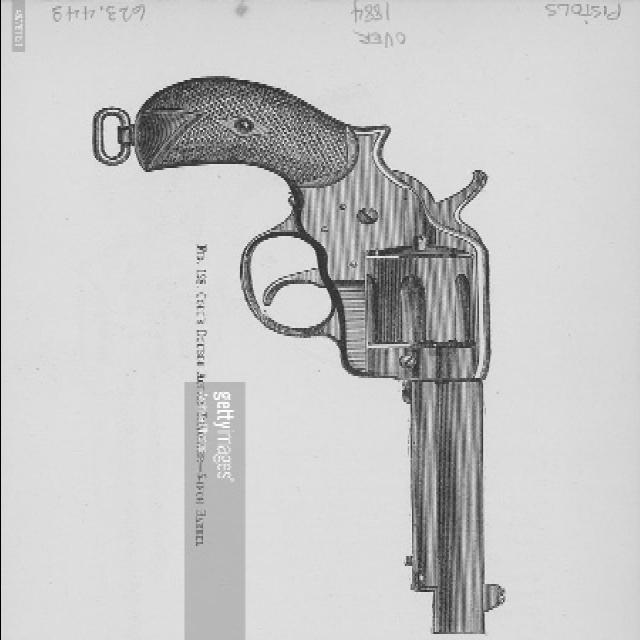handgun: (95, 77, 516, 639)
